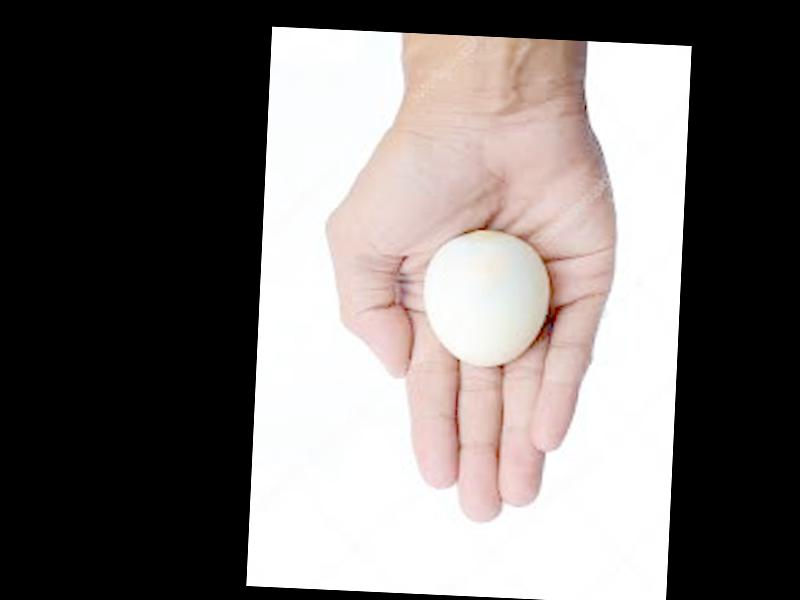Eggs: (423, 228, 549, 371)
